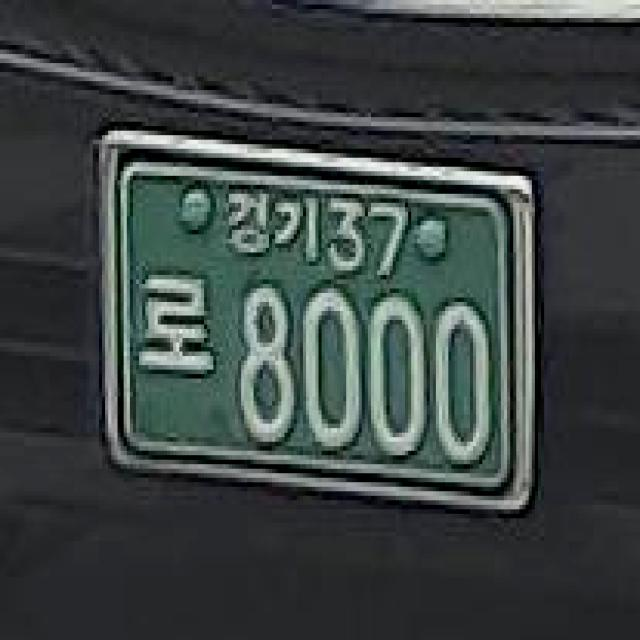illegal_plate: (86, 116, 544, 526)
